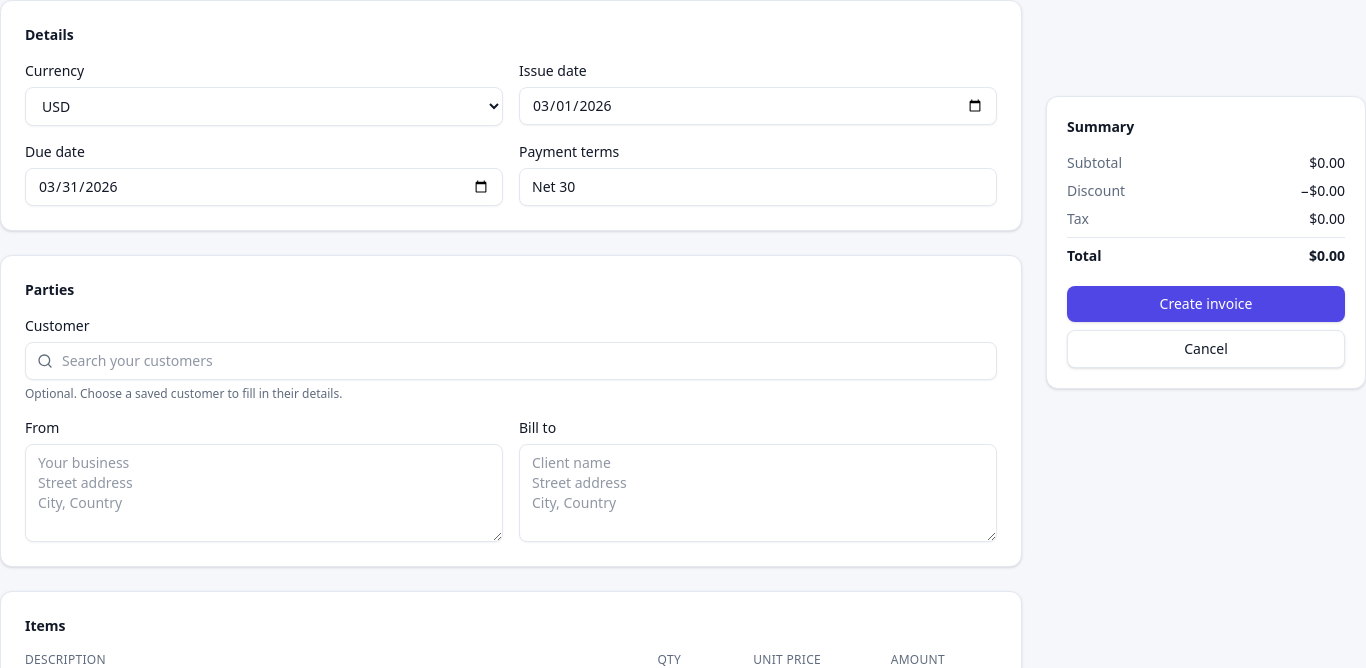
Test: InvoiceForm › uses the company's defaults for a customer without their own, and can unlink the customer
Click the dropdown labelled "Customer".
click(511, 361)  # box [25, 342, 997, 380]
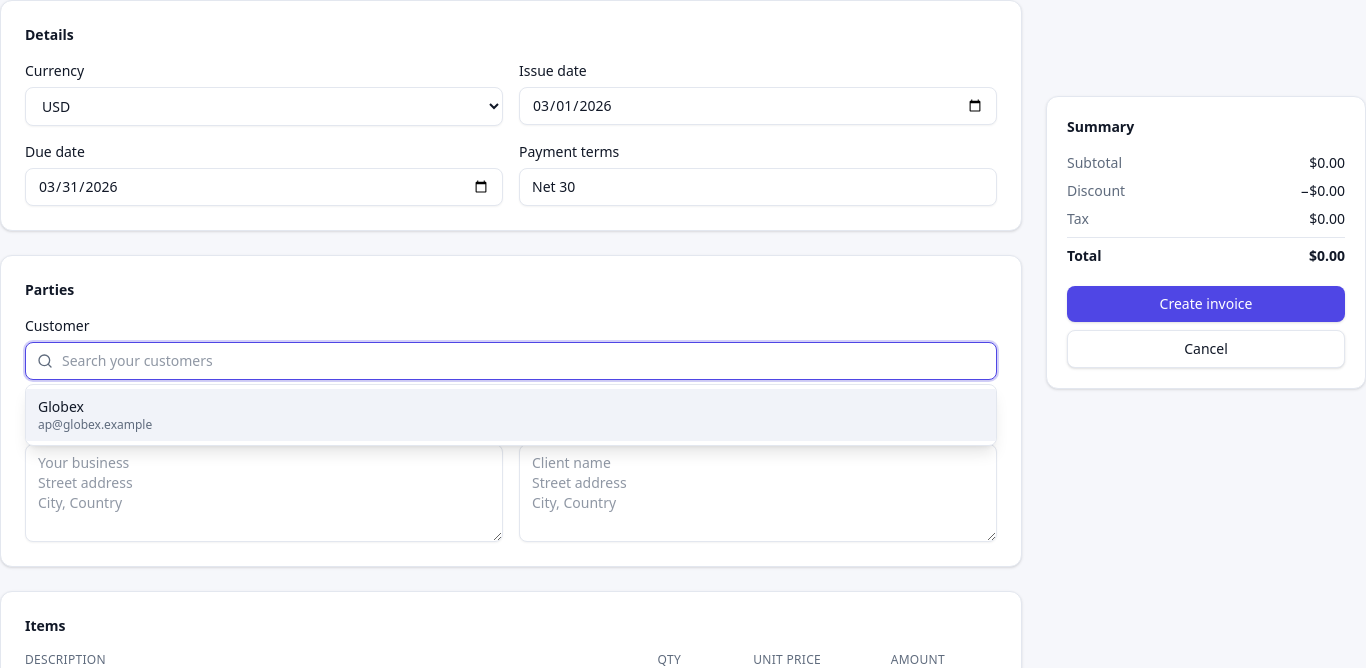
Press Arrowdown Enter
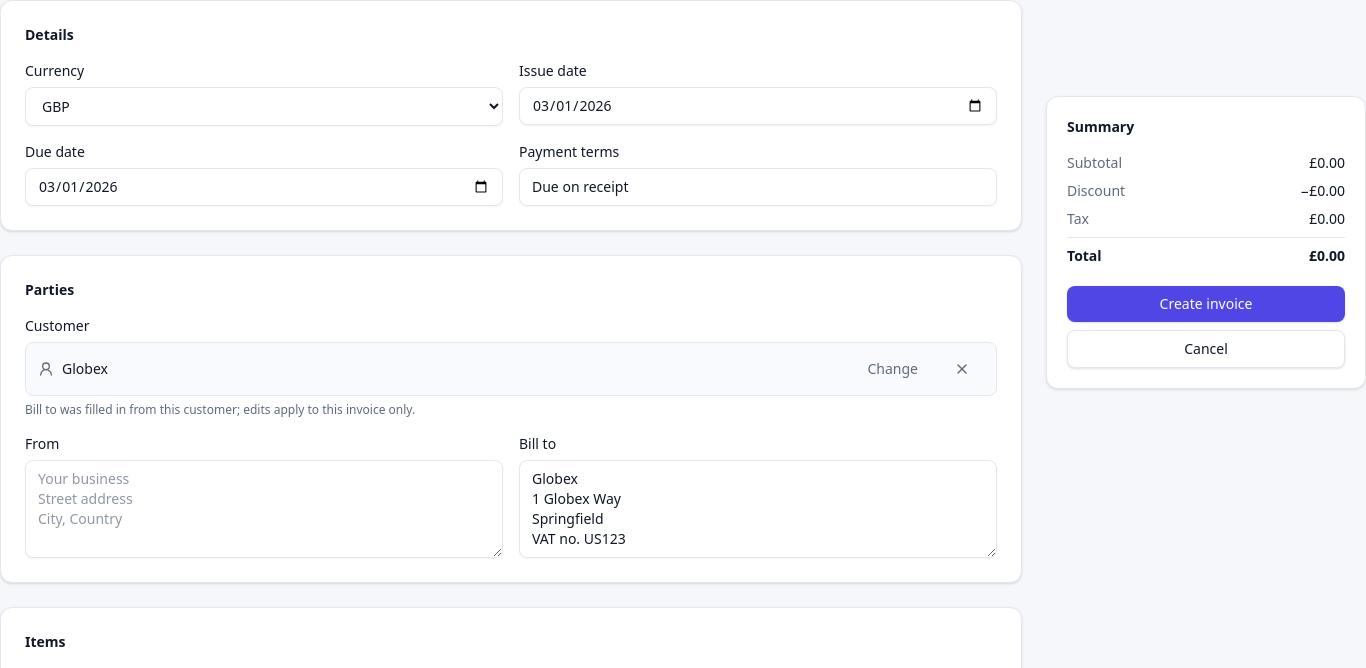
Expected: the dropdown labelled "Currency" shows "GBP", [25, 87, 503, 126]
Expected: the field labelled "Payment terms" holds "Due on receipt", [519, 168, 997, 206]
Expected: the date field labelled "Due date" holds "2026-03-01", [25, 168, 503, 206]
Click the button named "Remove customer".
click(962, 369)  # box [940, 353, 984, 385]
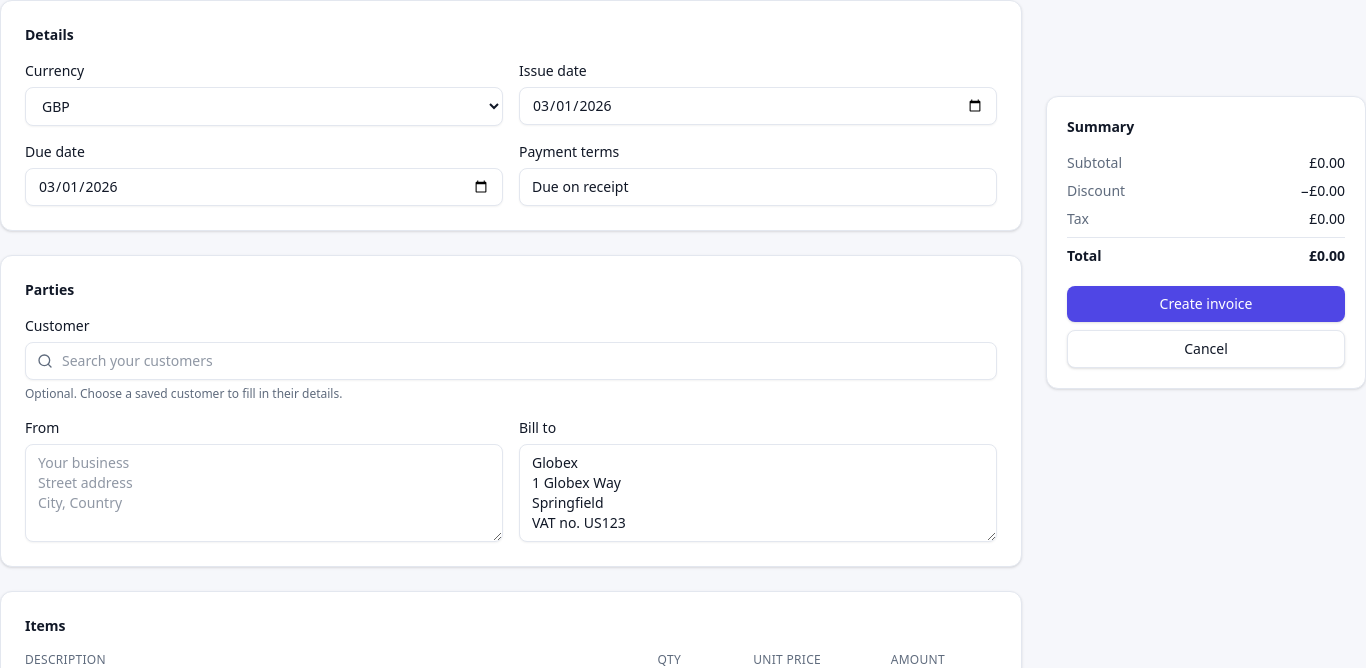
Expected: the dropdown labelled "Customer" is shown, [25, 342, 997, 380]
